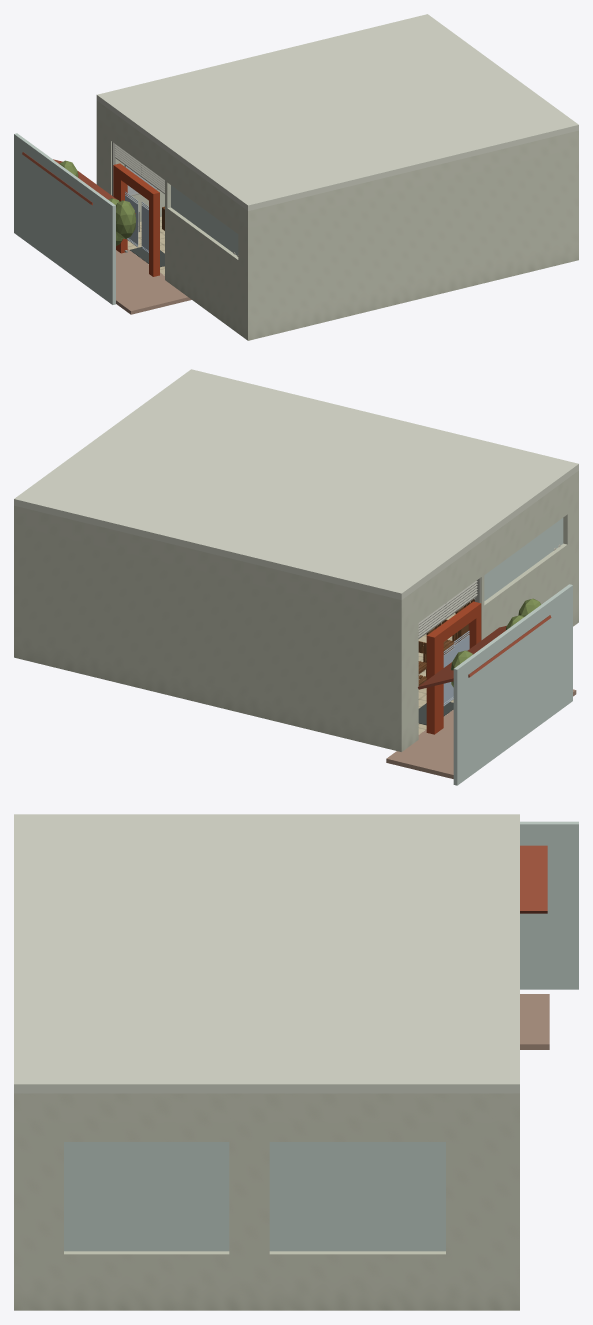
Rendered from IF101Classroom.fbx.
3 renders of one model, top to bottom at view 1: azimuth 30°, elevation 25°; view 2: azimuth 150°, elevation 25°; view 3: azimuth 270°, elevation 25°, orthographic. The views are drawn at different scales.
Parts seen in each view (by area): view 1: IF101 ceiling, IF101 wall end, IF101 exterior cream wall, IF101 wall -1.001, IF101 exterior terracotta paving, IF101 wall -1.002, IF101 wall -1.004, Milky window glazing.002, IF101 wall -1.005, IF101 wall -1, Orange portal jamb, Orange portal lintel (+3 smaller); view 2: IF101 ceiling, IF101 wall end.001, IF101 exterior cream wall, IF101 wall -1.001, IF101 wall -1.002, IF101 exterior terracotta paving, IF101 wall -1.004, IF101 wall -1.005, Milky window glazing.002, Orange portal jamb.001, IF101 wall -1, Orange portal lintel; view 3: IF101 ceiling, Milky window glazing.001, Milky window glazing, IF101 wall 1.006, IF101 wall 1.004, IF101 wall 1.001, IF101 wall 1, IF101 wall 1.003, IF101 wall 1.005, IF101 exterior cream wall, IF101 wall 1.002, IF101 wall end (+2 smaller).
Boxes of the visible parts, bbox=[...] form: IF101 ceiling: bbox=[96, 14, 578, 210]; IF101 wall end: bbox=[245, 130, 578, 340]; IF101 exterior cream wall: bbox=[14, 133, 115, 304]; IF101 wall -1.001: bbox=[167, 207, 238, 333]; IF101 exterior terracotta paving: bbox=[116, 249, 191, 314]; IF101 wall -1.002: bbox=[167, 152, 238, 233]; IF101 wall -1.004: bbox=[111, 111, 164, 179]; Milky window glazing.002: bbox=[171, 185, 238, 255]; IF101 wall -1.005: bbox=[99, 102, 111, 195]; IF101 wall -1: bbox=[238, 204, 245, 338]; Orange portal jamb: bbox=[149, 201, 159, 276]; Orange portal lintel: bbox=[113, 163, 159, 203]; IF101 ceiling: bbox=[14, 369, 578, 600]; IF101 wall end.001: bbox=[14, 505, 404, 751]; IF101 exterior cream wall: bbox=[453, 584, 572, 785]; IF101 wall -1.001: bbox=[484, 543, 567, 637]; IF101 wall -1.002: bbox=[484, 479, 567, 574]; IF101 exterior terracotta paving: bbox=[386, 689, 576, 778]; IF101 wall -1.004: bbox=[418, 542, 481, 622]; IF101 wall -1.005: bbox=[404, 588, 418, 749]; Milky window glazing.002: bbox=[484, 518, 563, 600]; Orange portal jamb.001: bbox=[426, 642, 443, 734]; IF101 wall -1: bbox=[563, 473, 575, 626]; Orange portal lintel: bbox=[426, 601, 481, 648]; IF101 ceiling: bbox=[14, 814, 519, 1093]; Milky window glazing.001: bbox=[269, 1142, 445, 1251]; Milky window glazing: bbox=[64, 1142, 229, 1251]; IF101 wall 1.006: bbox=[446, 1093, 511, 1310]; IF101 wall 1.004: bbox=[269, 1251, 445, 1310]; IF101 wall 1.001: bbox=[64, 1251, 229, 1310]; IF101 wall 1: bbox=[22, 1093, 63, 1310]; IF101 wall 1.003: bbox=[229, 1093, 269, 1310]; IF101 wall 1.005: bbox=[269, 1093, 445, 1141]; IF101 exterior cream wall: bbox=[520, 821, 578, 989]; IF101 wall 1.002: bbox=[64, 1093, 229, 1141]; IF101 wall end: bbox=[14, 1093, 21, 1310].
Size of the model in its own units: 10.97 by 3.67 by 8.08.
22 materials, 5 textured.
